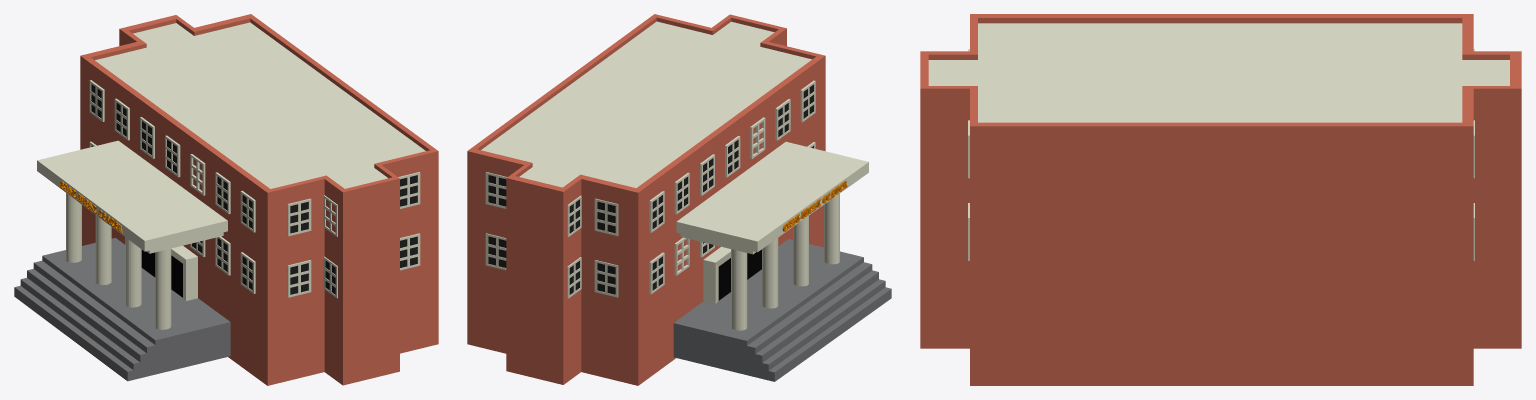
The model's file is EastWest Center.fbx.
The picture shows the model from 3 angles, left to right: view 1: azimuth 30°, elevation 25°; view 2: azimuth 150°, elevation 25°; view 3: azimuth 270°, elevation 25°; orthographic projection. The views are drawn at different scales.
Parts seen in each view (by area): view 1: EastWest Center; view 2: EastWest Center; view 3: EastWest Center.
Boxes of the visible parts, x1,y1,x2,y2 form: EastWest Center: (14,14,438,385); EastWest Center: (467,14,891,385); EastWest Center: (920,14,1521,385).
Bounding box in the file's own units: 199 × 134 × 281.
